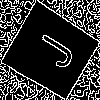J: (26, 26, 78, 72)
